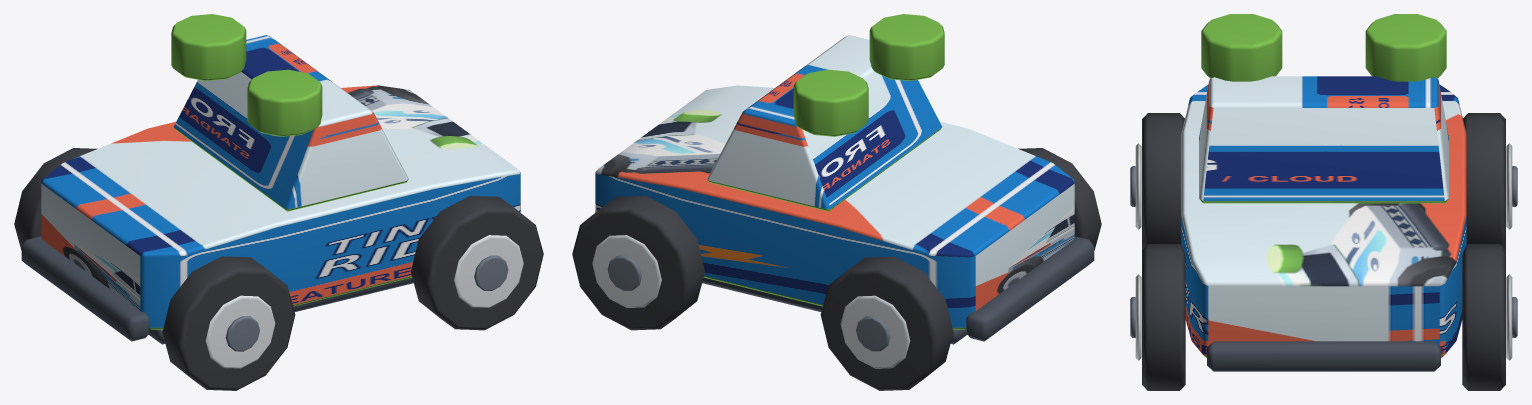
The picture shows the model from 3 angles, left to right: view 1: azimuth 30°, elevation 25°; view 2: azimuth 150°, elevation 25°; view 3: azimuth 270°, elevation 25°; orthographic projection. The views are drawn at different scales.
Visible parts, largest first — view 1: CR-04_connected_shell, CR-04_cabin, Tire.002, Tire, front bumper, eye housing.001, eye housing, Rim, Rim.002, Tire.001, underbody, Hub.002 (+1 smaller); view 2: CR-04_connected_shell, CR-04_cabin, Tire.003, Tire.001, front bumper, eye housing, eye housing.001, Rim.001, Rim.003, Tire, underbody, Hub.003 (+1 smaller); view 3: CR-04_connected_shell, CR-04_cabin, rear bumper, Tire.002, Tire.003, Tire, Tire.001, eye housing, eye housing.001, Rim, Rim.001, Rim.002 (+1 smaller).
Part boxes in pixels (x1=…): CR-04_connected_shell: x1=41, y1=85, x2=520, y2=329; CR-04_cabin: x1=174, y1=35, x2=408, y2=211; Tire.002: x1=411, y1=196, x2=543, y2=330; Tire: x1=162, y1=256, x2=295, y2=390; front bumper: x1=21, y1=236, x2=150, y2=341; eye housing.001: x1=171, y1=14, x2=246, y2=80; eye housing: x1=247, y1=69, x2=322, y2=136; Rim: x1=205, y1=295, x2=275, y2=368; Rim.002: x1=454, y1=235, x2=523, y2=307; Tire.001: x1=14, y1=148, x2=97, y2=250; underbody: x1=148, y1=277, x2=413, y2=344; Hub.002: x1=474, y1=255, x2=508, y2=290; CR-04_connected_shell: x1=595, y1=85, x2=1074, y2=329; CR-04_cabin: x1=707, y1=35, x2=941, y2=211; Tire.003: x1=572, y1=196, x2=704, y2=330; Tire.001: x1=820, y1=256, x2=953, y2=390; front bumper: x1=965, y1=236, x2=1094, y2=341; eye housing: x1=869, y1=14, x2=944, y2=80; eye housing.001: x1=793, y1=69, x2=868, y2=136; Rim.001: x1=840, y1=295, x2=910, y2=368; Rim.003: x1=592, y1=235, x2=661, y2=307; Tire: x1=1018, y1=148, x2=1101, y2=250; underbody: x1=702, y1=277, x2=967, y2=344; Hub.003: x1=607, y1=255, x2=641, y2=290; CR-04_connected_shell: x1=1181, y1=85, x2=1466, y2=357; CR-04_cabin: x1=1199, y1=76, x2=1448, y2=203; rear bumper: x1=1207, y1=341, x2=1440, y2=371; Tire.002: x1=1142, y1=244, x2=1185, y2=390; Tire.003: x1=1462, y1=244, x2=1505, y2=390; Tire: x1=1142, y1=113, x2=1184, y2=249; Tire.001: x1=1463, y1=113, x2=1505, y2=249; eye housing: x1=1201, y1=14, x2=1282, y2=81; eye housing.001: x1=1365, y1=14, x2=1446, y2=81; Rim: x1=1135, y1=143, x2=1141, y2=229; Rim.001: x1=1506, y1=143, x2=1512, y2=229; Rim.002: x1=1135, y1=274, x2=1141, y2=360.
Bounding box in the file's own units: 303 × 180 × 231.
